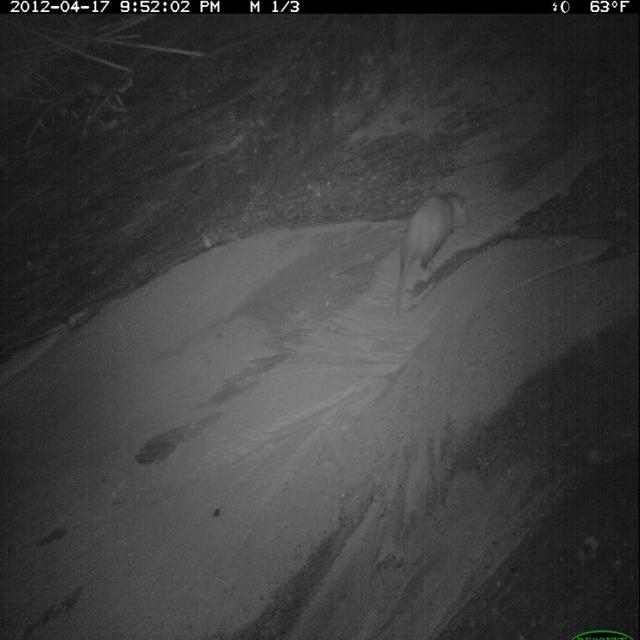opossum: (394, 189, 475, 314)
